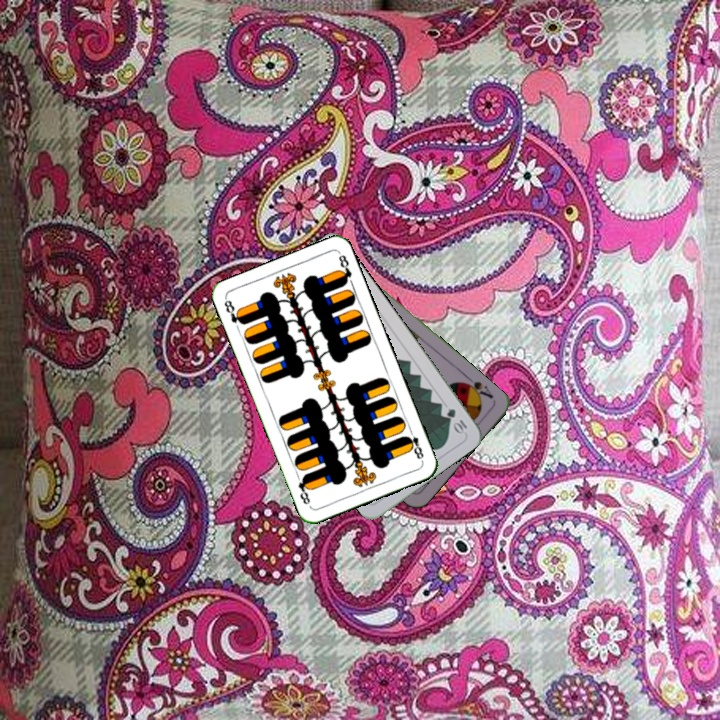E8: (402, 424, 426, 462), (220, 295, 247, 328)
G10: (443, 404, 470, 437)
SA: (458, 372, 496, 403)
